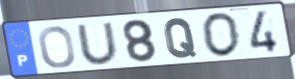4: (248, 8, 280, 55)
8: (122, 18, 158, 64)
O: (200, 11, 242, 58), (37, 25, 78, 70)
Q: (162, 16, 199, 60)
U: (74, 20, 121, 66)
